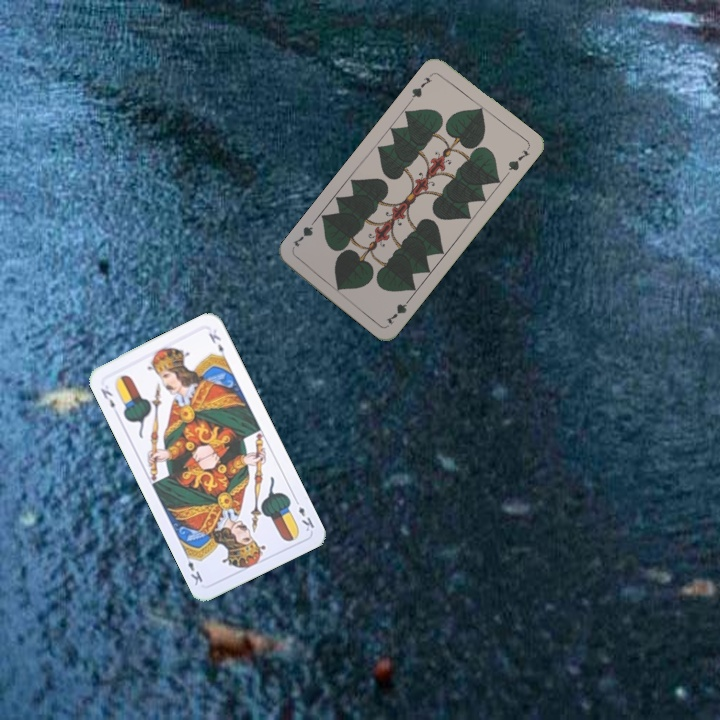EK: (290, 494, 317, 534), (96, 384, 117, 411)
G7: (382, 293, 414, 327), (406, 69, 436, 104)
